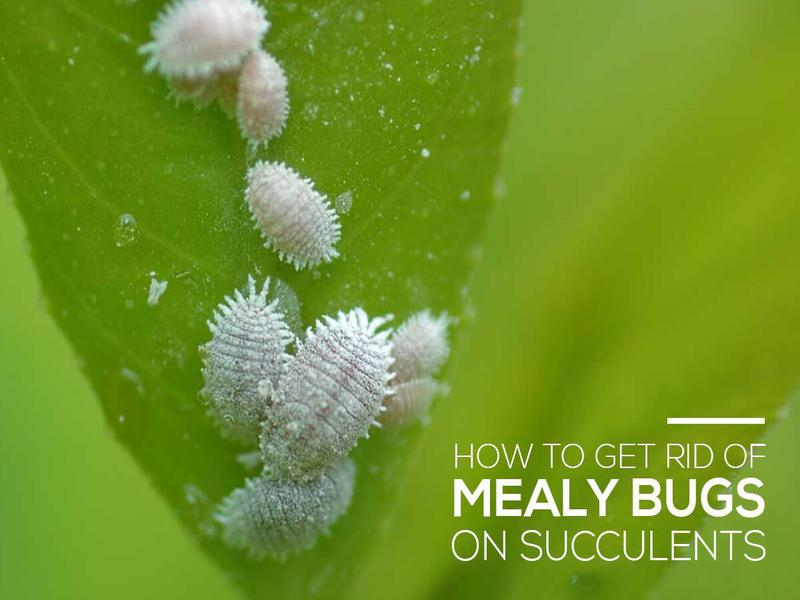Mealy_bug: (194, 280, 440, 555), (134, 1, 316, 150), (222, 155, 360, 285)
